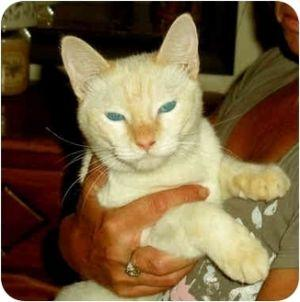siamese: (59, 11, 210, 177)
